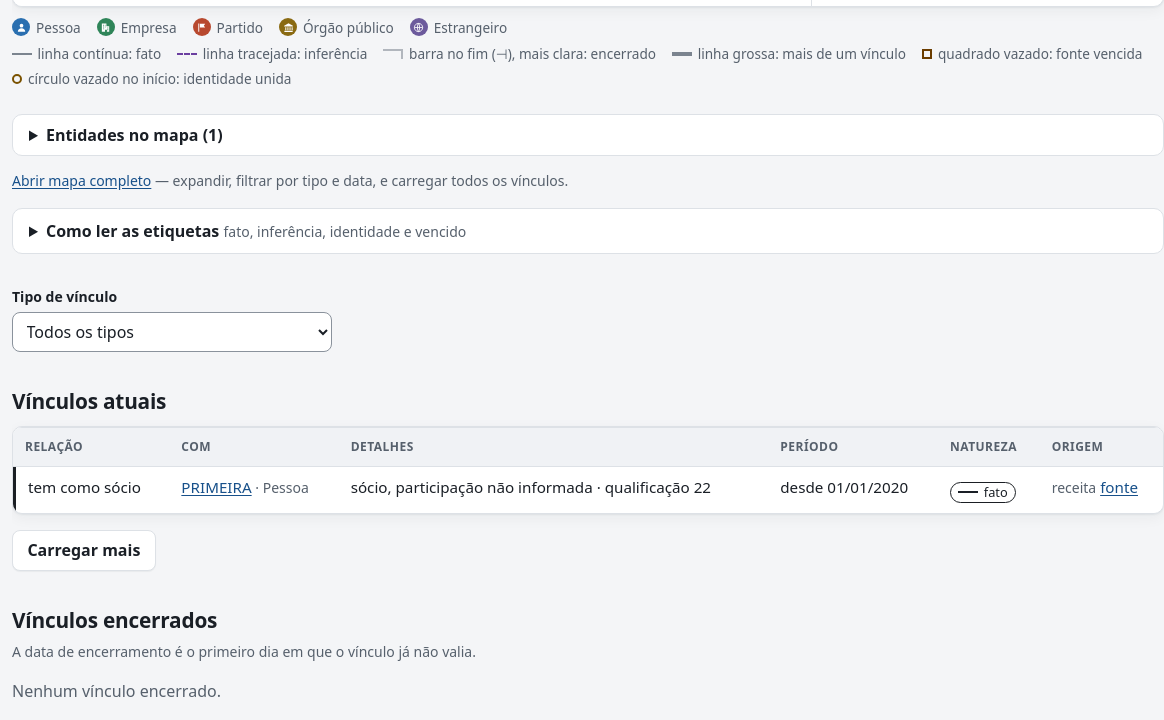
Test: EntityPage › carregar mais segue o next_cursor e para no cursor vazio
(page scrolled)
Expected: the link "PRIMEIRA" is shown, [181, 477, 252, 497]
Click the button "Carregar mais": (84, 550) [12, 530, 156, 571]
(page scrolled)
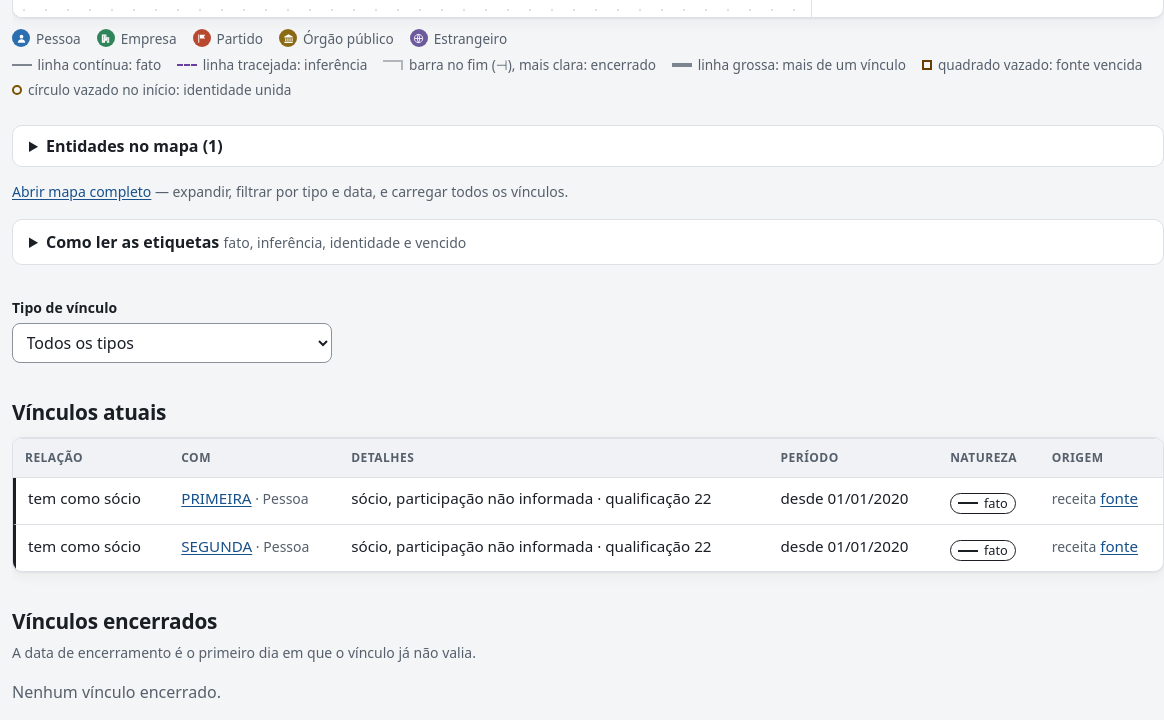
Expected: the link "PRIMEIRA" is shown, [181, 488, 252, 508]
Result: the link "SEGUNDA" is shown at [181, 536, 252, 556]
Result: the button "Carregar mais" is gone
